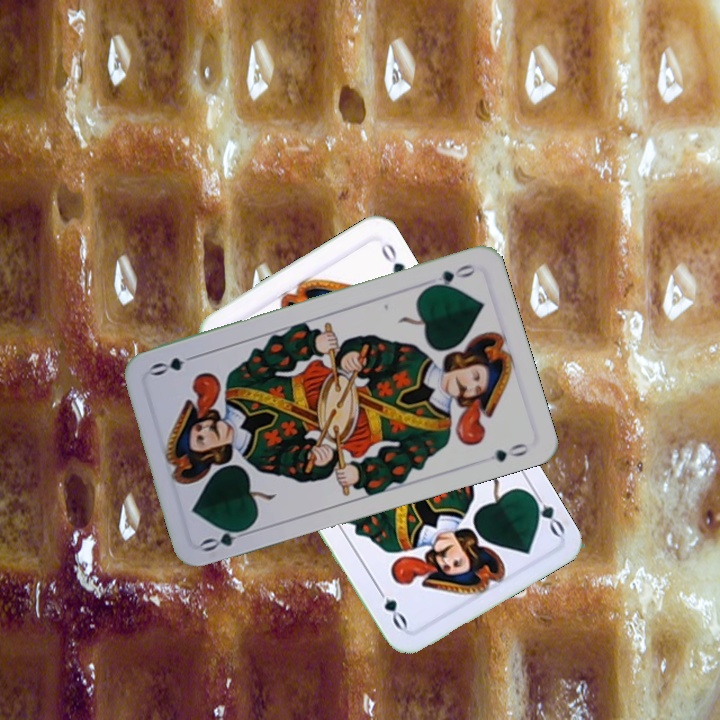GO: (523, 484, 568, 539), (197, 521, 256, 555), (423, 260, 478, 292)
